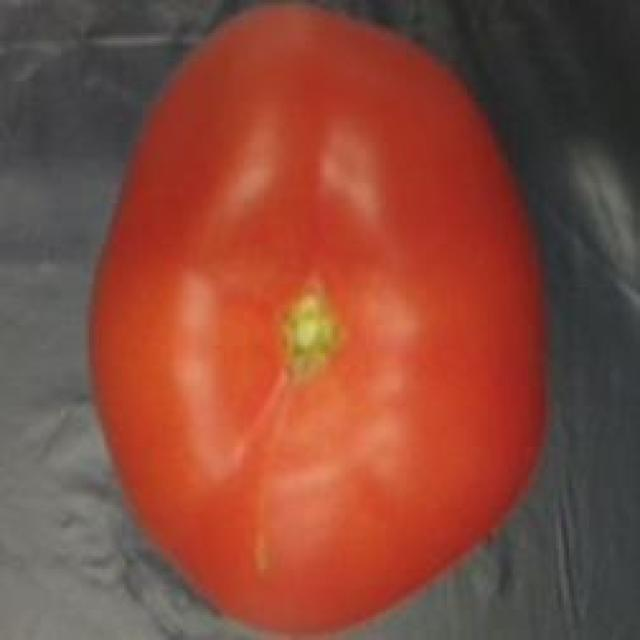ripe tomato: (71, 0, 574, 640)
